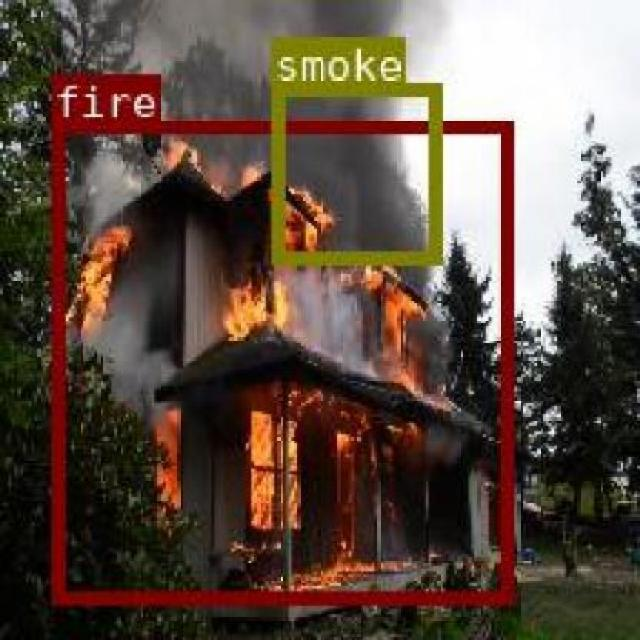Fire: (49, 118, 509, 600)
Smoke: (272, 80, 438, 262)
